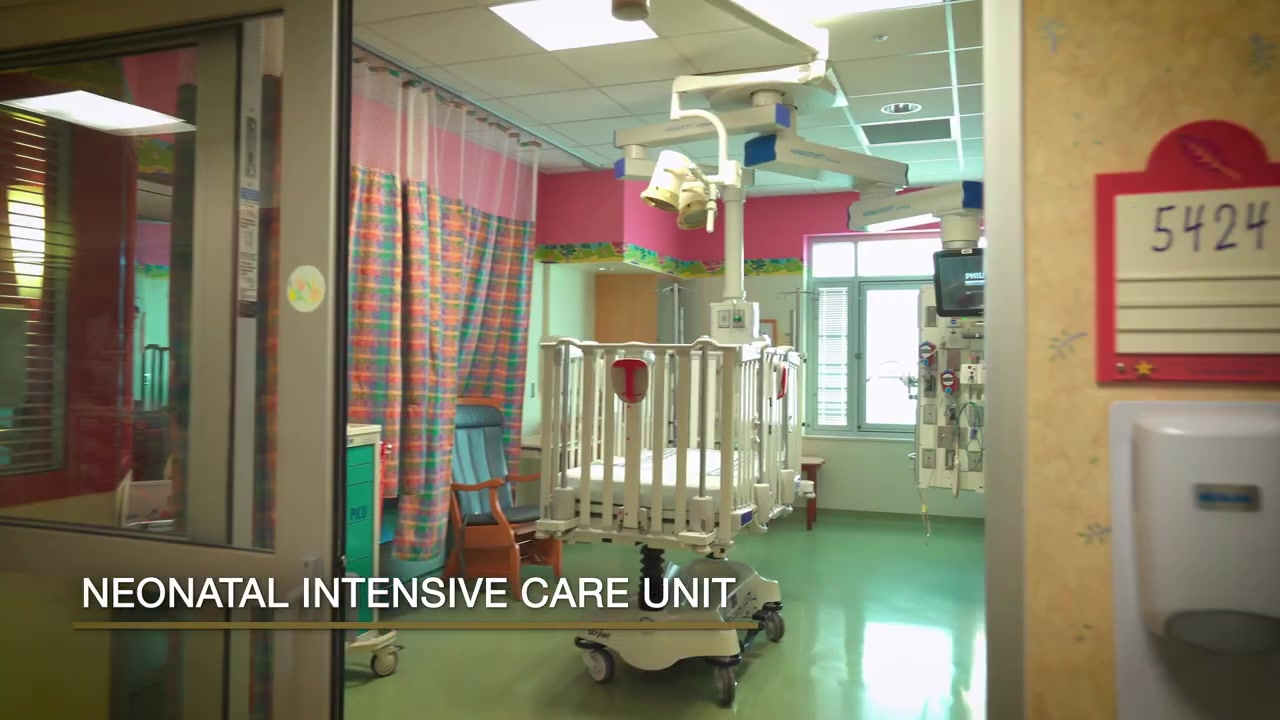bedrail: (553, 345, 737, 534), (715, 350, 806, 516)
bedside_monitor: (933, 249, 985, 317)
chair: (438, 403, 562, 602)
curtain: (348, 44, 543, 562)
dispenser: (1129, 409, 1280, 656)
door_handle: (281, 552, 327, 632)
hospital_bed: (537, 333, 818, 707)
iv_pole: (776, 288, 822, 352), (660, 282, 690, 344)
medical_drawer: (346, 423, 406, 677)
surgical_light: (639, 149, 718, 234)
